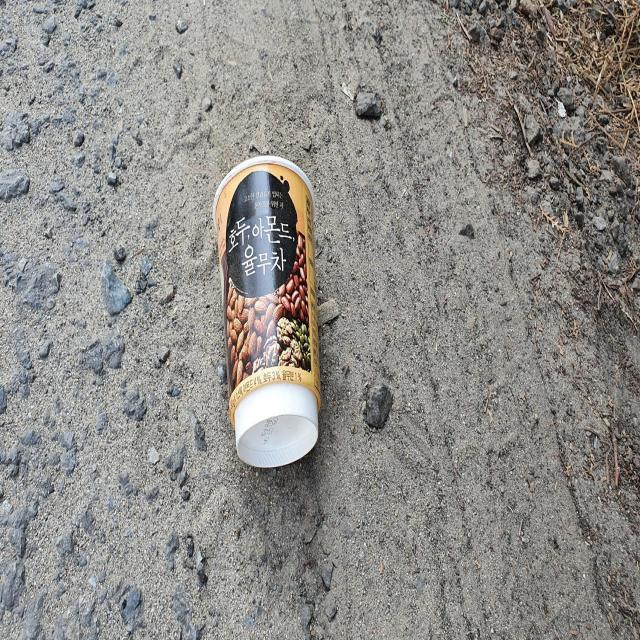paperpack: (212, 154, 321, 468)
